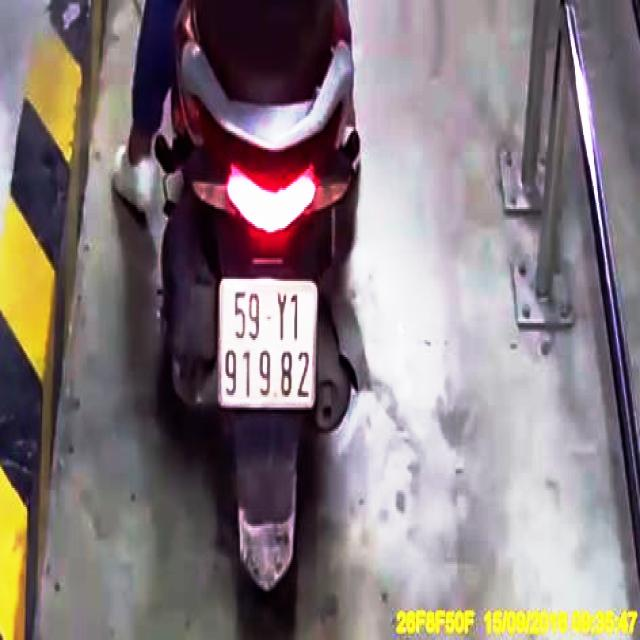license_plate: (221, 276, 321, 406)
